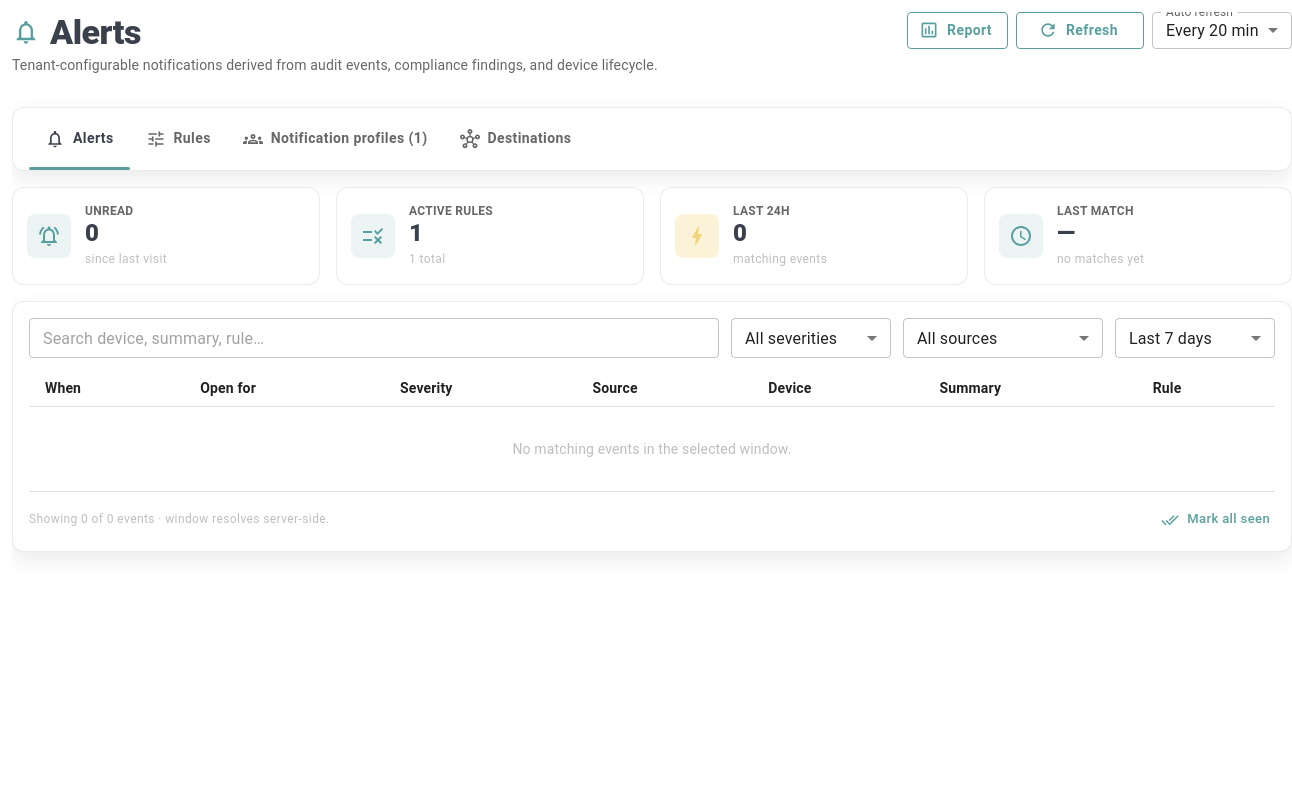
Alerts — perfiles de notificaciones (ADR-0025) › con `alerts` enseña los perfiles, con su audiencia y cuántas reglas los usan
Click the tab "Rules": (178, 139) [130,108,227,170]
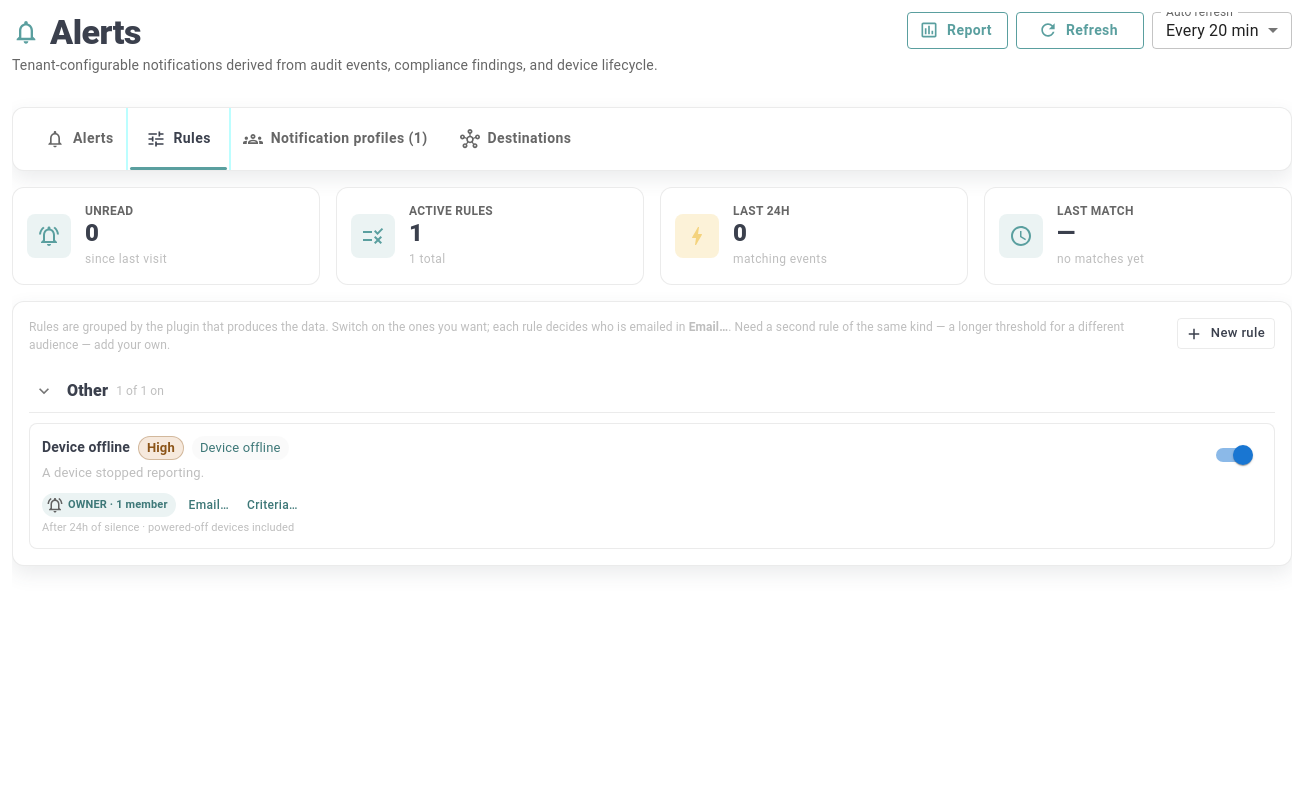
Click the tab "Notification profiles (1)": (335, 139) [227,108,444,170]
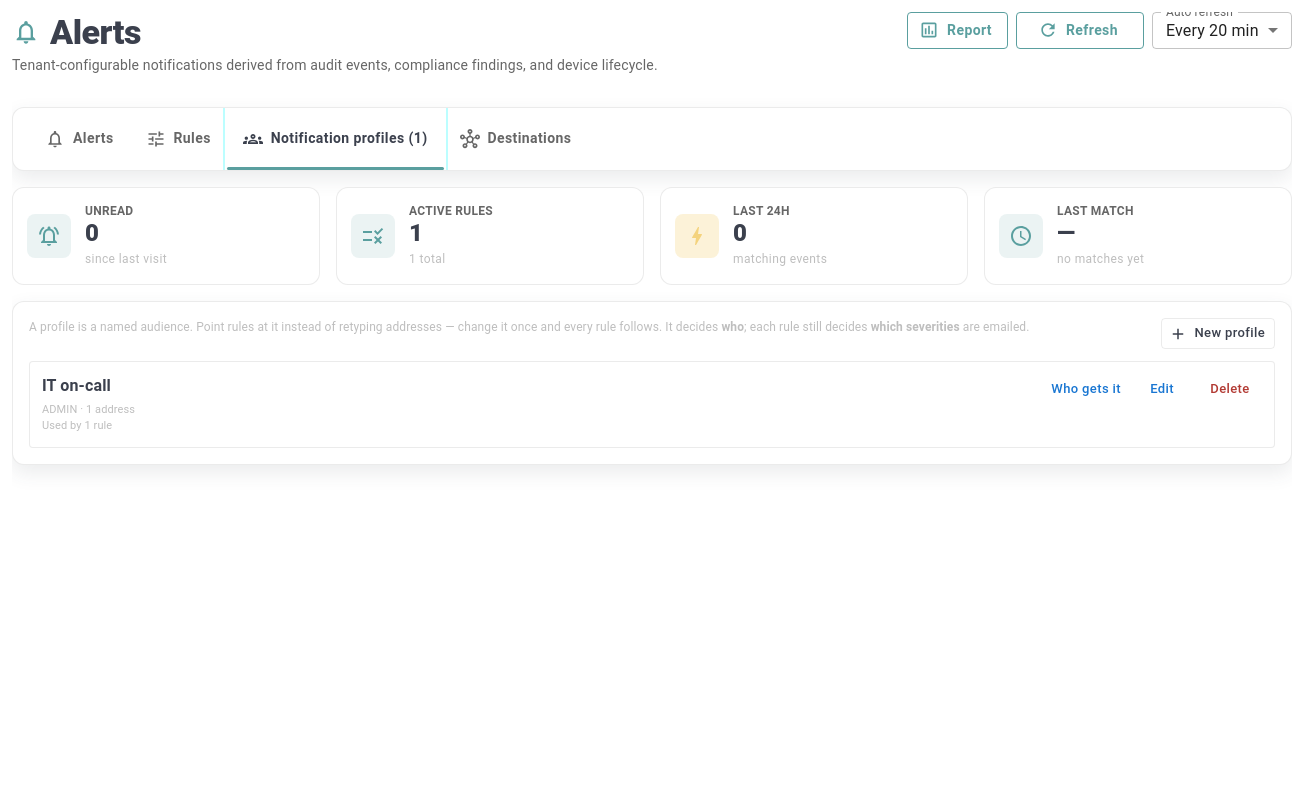
Result: the text "IT on-call" is shown at [42,376,111,395]
Result: the text "ADMIN · 1 address" is shown at [42,403,135,416]
Result: the text "Used by 1 rule" is shown at [42,420,112,432]
